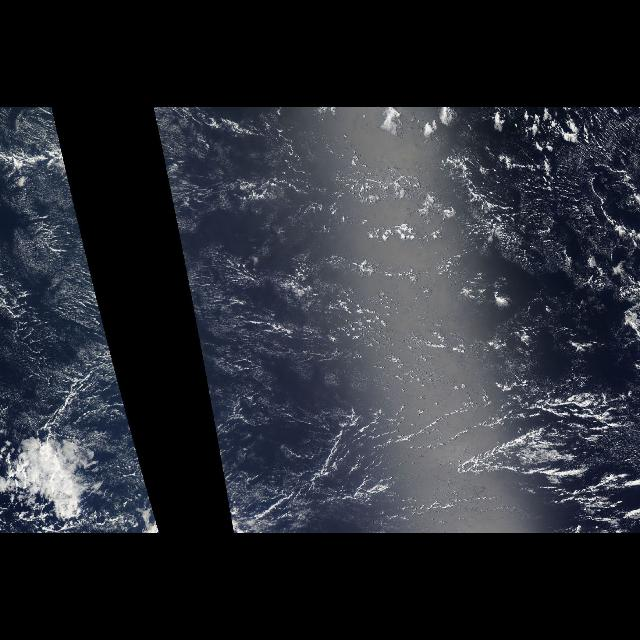Sugar: (152, 109, 634, 532), (1, 109, 159, 532)
